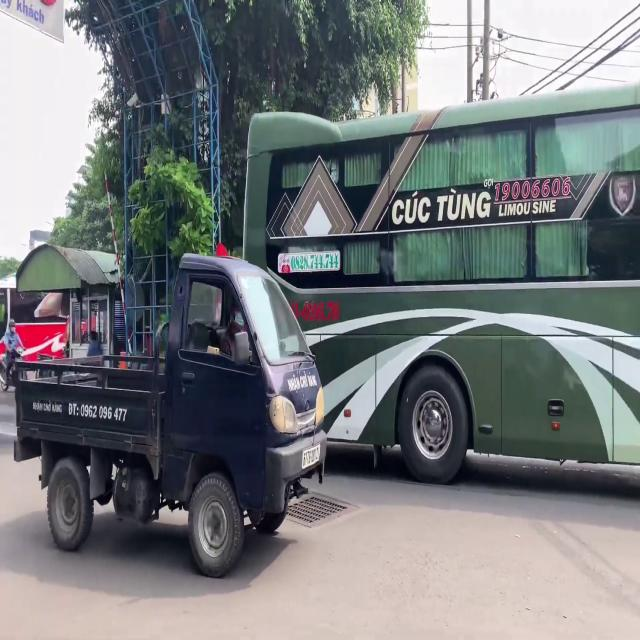bien_trang: (300, 448, 324, 467)
